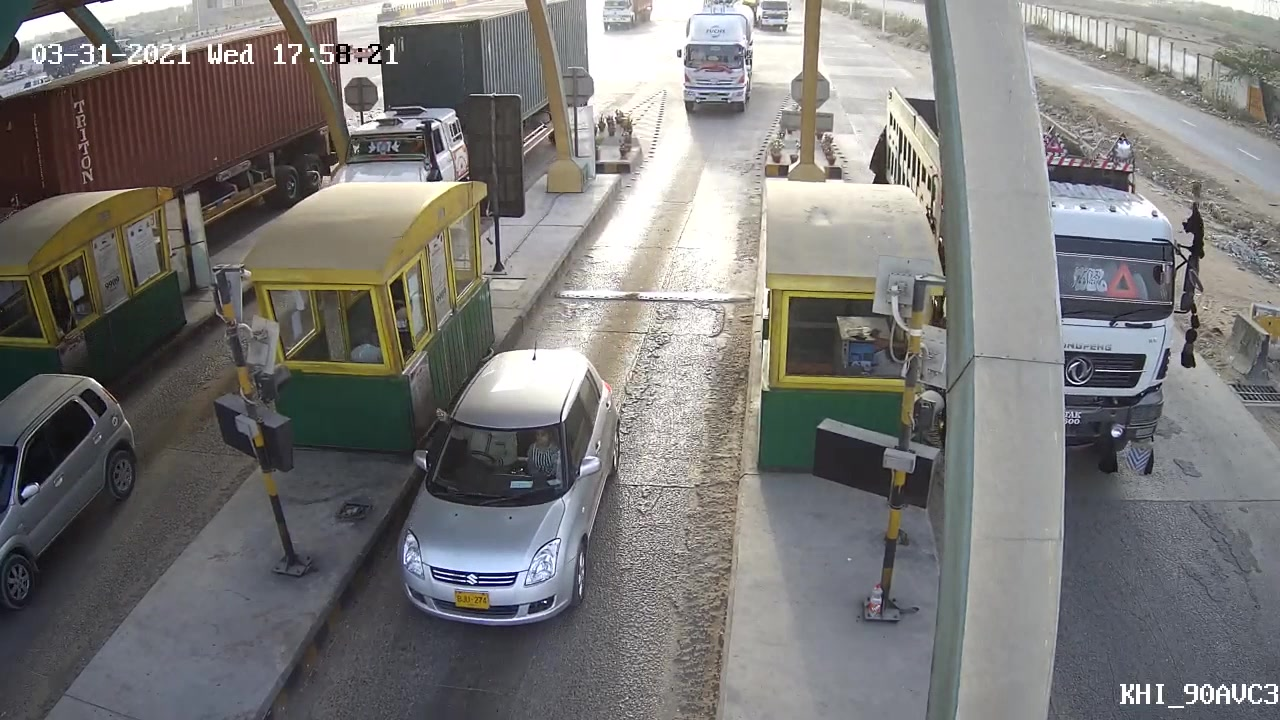F1: (388, 332, 631, 633)
